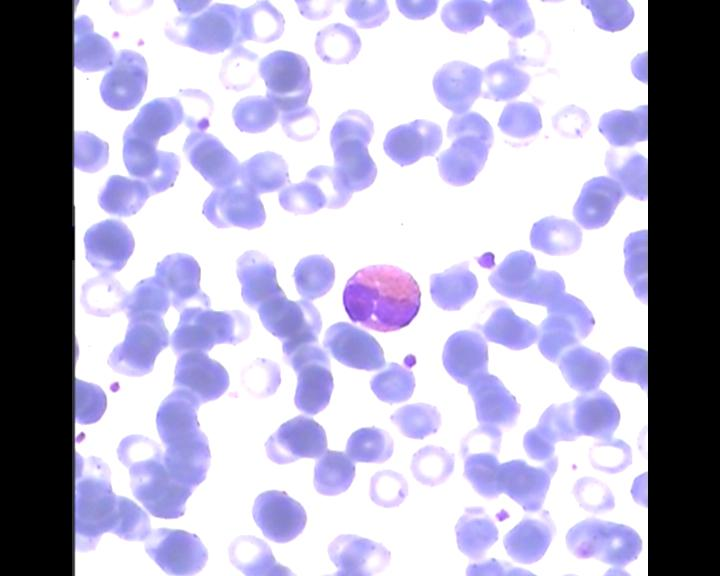eosi: (340, 261, 422, 338)
